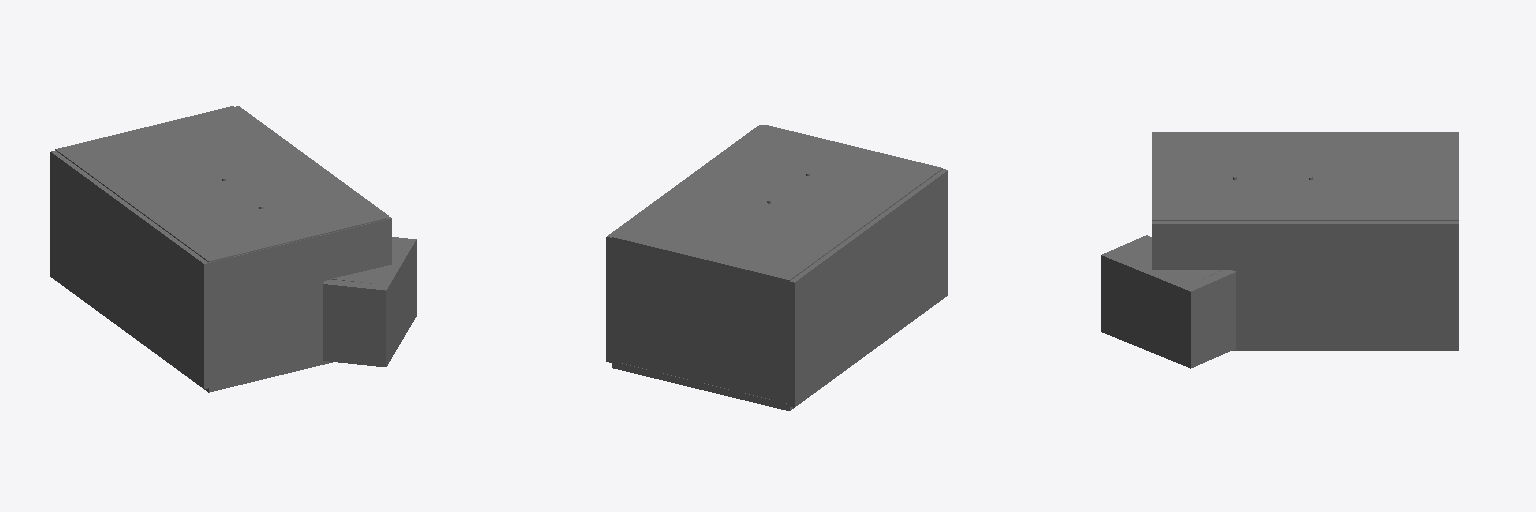
The model's file is LakotaModel.obj.
3 renders of one model, left to right at view 1: azimuth 30°, elevation 25°; view 2: azimuth 150°, elevation 25°; view 3: azimuth 270°, elevation 25°, orthographic.
Parts seen in each view (by area): view 1: pCube10, pCube6, pCube14, pCube17, pCube15, pCube9; view 2: pCube10, pCube7, pCube6, pCube15, pCube9; view 3: pCube15, pCube10, pCube17.
Boxes of the visible parts, box(x1,y1,x2,y2) form: pCube10: box(55, 106, 386, 262); pCube6: box(50, 150, 205, 386); pCube14: box(201, 216, 391, 388); pCube17: box(323, 237, 416, 366); pCube15: box(239, 106, 388, 216); pCube9: box(204, 361, 332, 392); pCube10: box(612, 125, 942, 286); pCube7: box(608, 234, 797, 403); pCube6: box(788, 171, 944, 407); pCube15: box(606, 126, 760, 362); pCube9: box(612, 361, 793, 410); pCube15: box(1157, 221, 1458, 348); pCube10: box(1152, 133, 1458, 220); pCube17: box(1101, 235, 1235, 368).
Bounding box in the file's own units: 34.38 × 20 × 45.92.